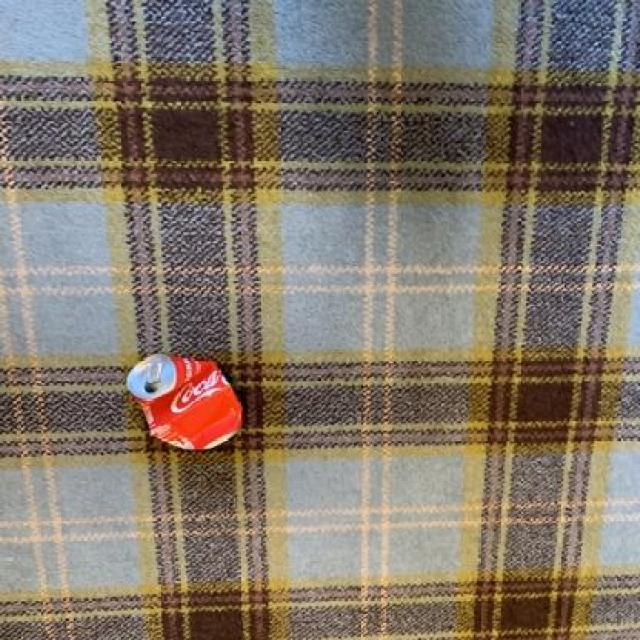trash: (128, 355, 252, 453)
